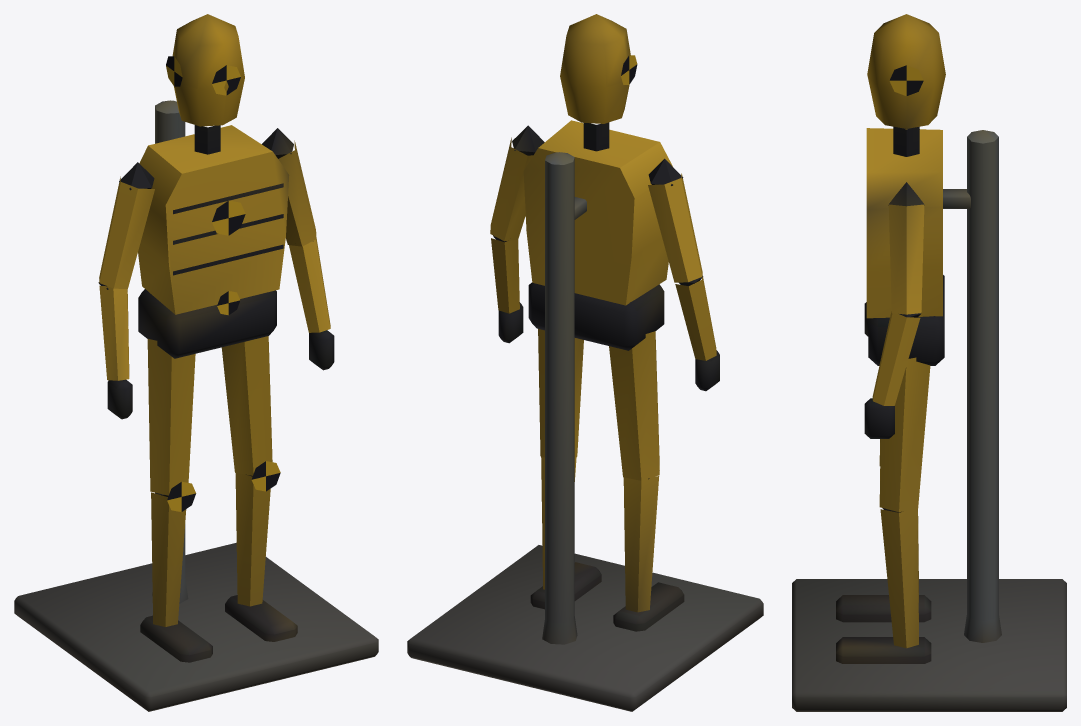
Rendered from dummy_stand.glb.
3 renders of one model, left to right at view 1: azimuth 30°, elevation 25°; view 2: azimuth 150°, elevation 25°; view 3: azimuth 270°, elevation 25°, orthographic. The views are drawn at different scales.
Parts seen in each view (by area): view 1: DummyStand; view 2: DummyStand; view 3: DummyStand.
Boxes of the visible parts, box(x1,y1,x2,y2) form: DummyStand: box(14, 14, 378, 711); DummyStand: box(407, 14, 763, 711); DummyStand: box(792, 14, 1066, 711).
Bounding box in the file's own units: 0.72 × 1.86 × 0.72.
